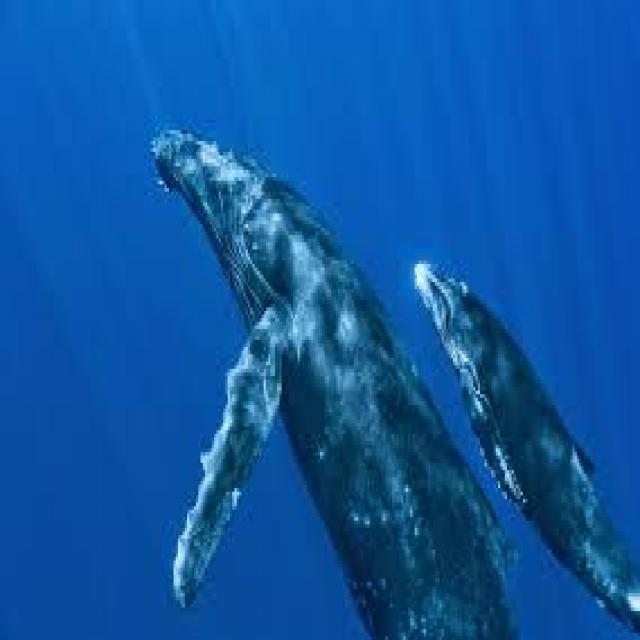blue_whale: (124, 105, 534, 640), (403, 220, 639, 640)
